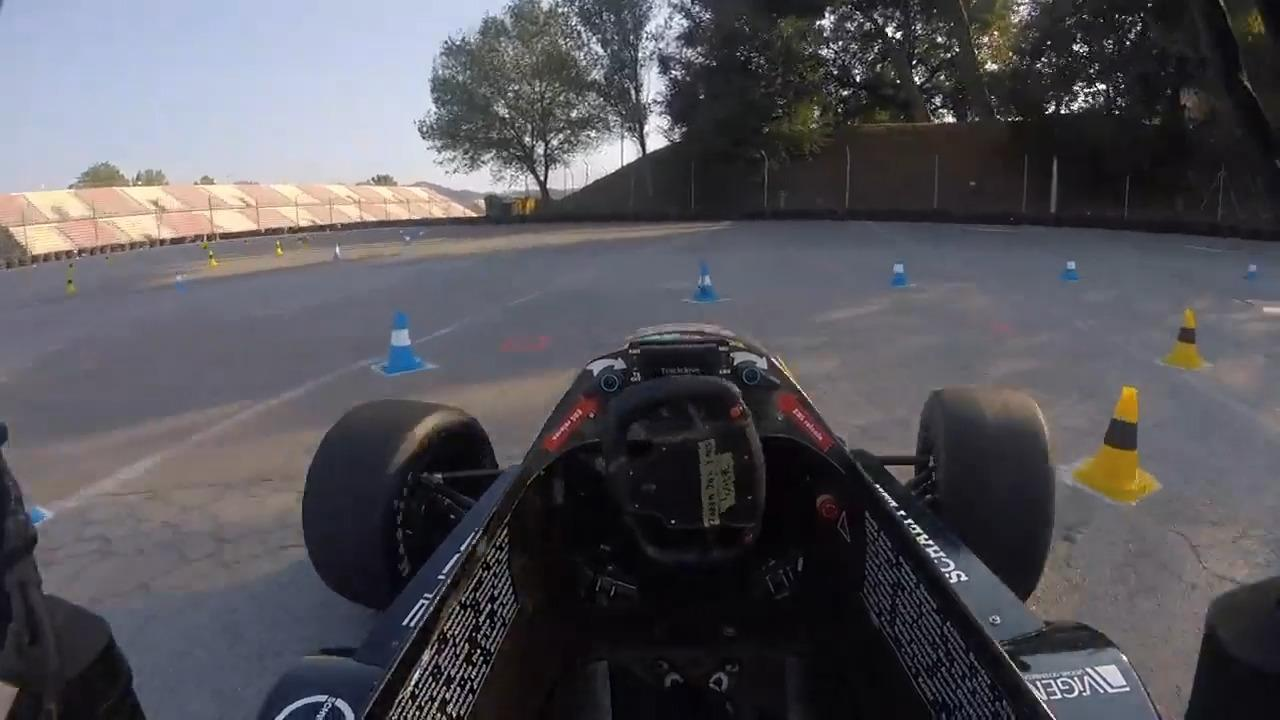blue_cone: (371, 299, 437, 383), (877, 247, 920, 300), (686, 259, 726, 309), (1058, 243, 1091, 291)
yellow_cone: (1072, 378, 1165, 508), (1159, 299, 1213, 372)
